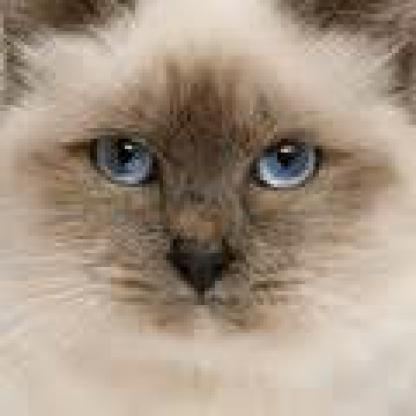cat: (0, 0, 413, 413)
